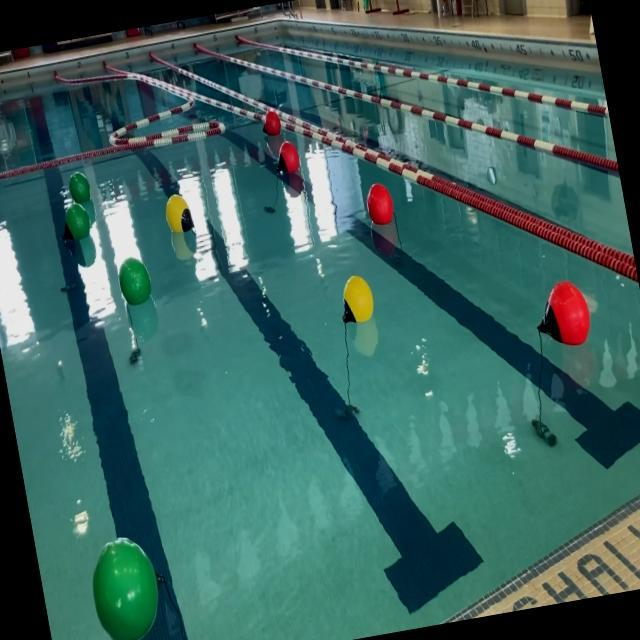buoy: (81, 524, 169, 640), (526, 272, 597, 356), (334, 269, 378, 330), (112, 250, 156, 310), (55, 198, 94, 246), (160, 190, 197, 238), (362, 180, 398, 228), (268, 140, 302, 180), (64, 166, 92, 205), (258, 110, 283, 138)
